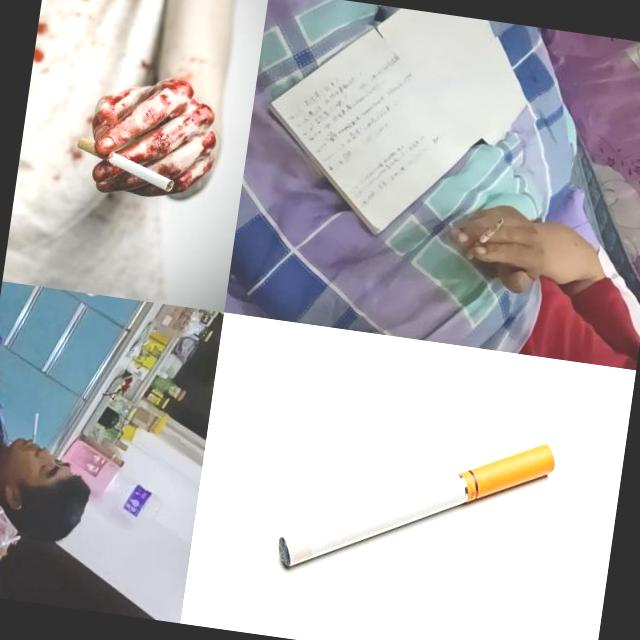cigarette: (274, 408, 561, 604), (72, 135, 180, 194), (462, 212, 506, 266), (31, 412, 39, 443)
